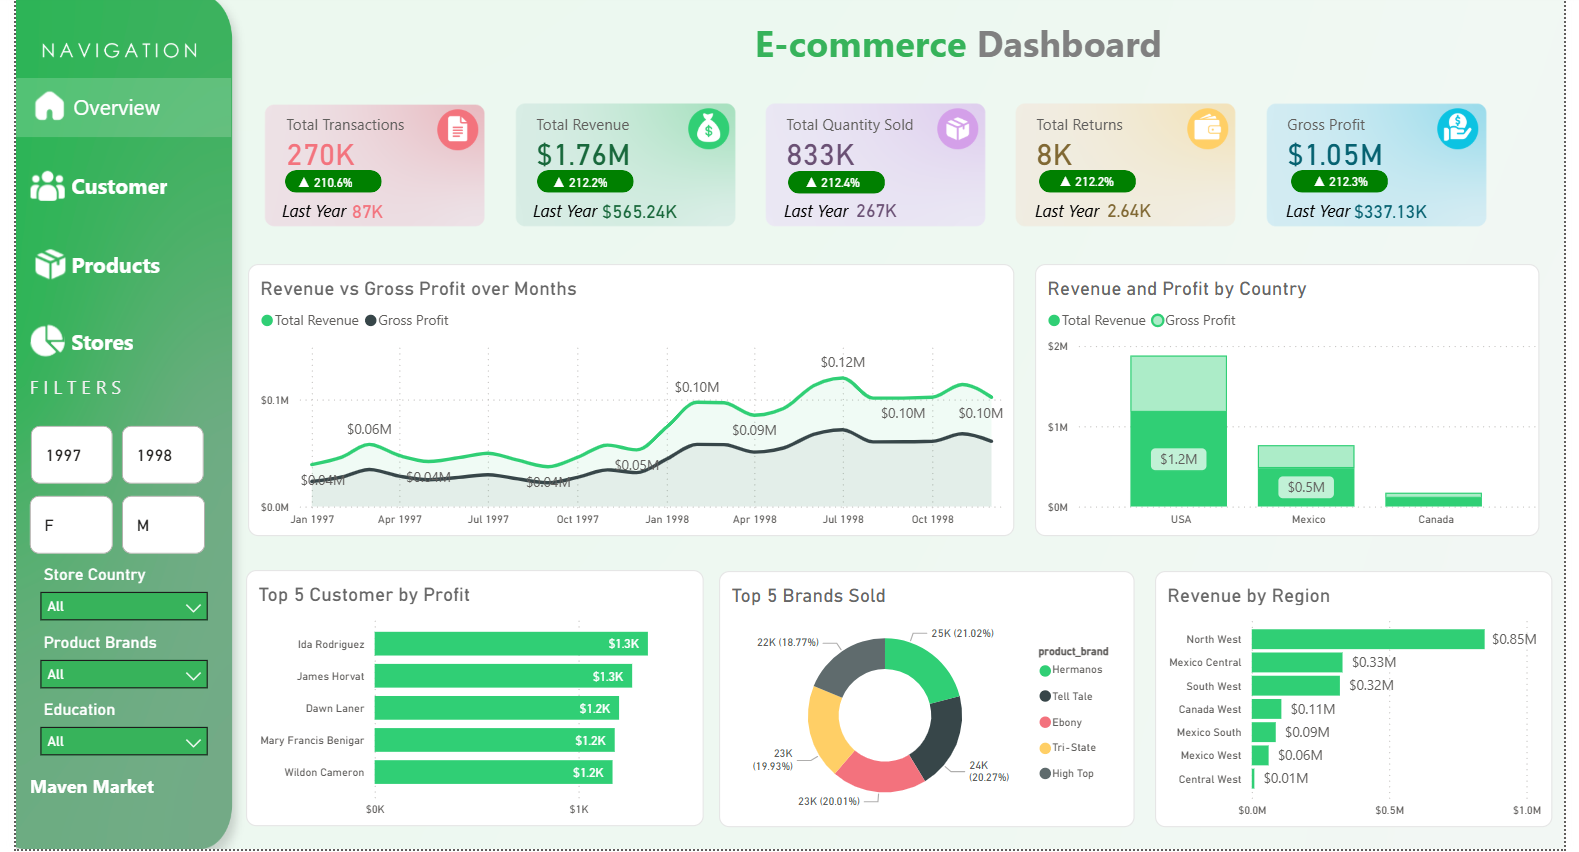

This screenshot's page, from the dashboard's own definition file:
{"tool":"powerbi","page":{"name":"Overview","canvas":[1360,750],"ordinal":0},"visuals":[{"type":"image","box":[0,0,202,750],"z":0},{"type":"image","title":"BG Image","box":[213.3,84.4,203.2,130.5],"z":0,"group":"g1"},{"type":"image","title":"BG Image","box":[433.4,84.6,203,130],"z":0,"group":"g2"},{"type":"image","title":"BG Image","box":[653.3,84.6,203,130],"z":0,"group":"g3"},{"type":"image","title":"BG Image","box":[873.2,84.6,203,130],"z":0,"group":"g9"},{"type":"image","title":"BG Image","box":[1093.1,84.6,203,130],"z":0,"group":"g15"},{"type":"shape","title":"YOY bg","box":[898.5,154.5,85.4,20],"z":0,"group":"g6"},{"type":"shape","title":"YOY bg","box":[1119.5,154.5,85.4,20],"z":0,"group":"g7"},{"type":"shape","title":"YOY bg","box":[236.5,154.6,85,20],"z":0,"group":"g5"},{"type":"shape","title":"YOY bg","box":[457.1,154.6,85,20],"z":0,"group":"g10"},{"type":"shape","title":"YOY bg","box":[677.6,154.6,85.4,20],"z":0,"group":"g4"},{"type":"shape","box":[233.5,175.6,65,25],"z":0,"group":"g11"},{"type":"shape","box":[454,175.6,65,25],"z":0,"group":"g8"},{"type":"shape","box":[674.4,175.6,65,25],"z":0,"group":"g12"},{"type":"shape","box":[894.9,175.6,65,25],"z":0,"group":"g13"},{"type":"shape","box":[1115.3,175.6,65,25],"z":0,"group":"g14"},{"type":"group","id":"g1","title":"Transactions KPI","box":[213.3,84.4,203.2,130.5],"z":1000,"group":"g16"},{"type":"image","title":"Icon","box":[807.1,98.2,40,40],"z":1000,"group":"g3"},{"type":"image","title":"Icon","box":[1026.6,98.2,40,40],"z":1000,"group":"g9"},{"type":"image","title":"Icon","box":[1246.2,98.2,40,40],"z":1000,"group":"g15"},{"type":"cardVisual","title":"YOY %","fields":{"Data":["_Measures.Quantity Sold YoY %"]},"box":[682.3,153.9,75,18.6],"z":1000,"group":"g4"},{"type":"cardVisual","title":"YOY %","fields":{"Data":["_Measures.Transactions YOY %"]},"box":[236.3,154.2,75,18],"z":1000,"group":"g5"},{"type":"cardVisual","title":"YOY %","fields":{"Data":["_Measures.Revenue YoY %"]},"box":[459.3,154.2,75,18],"z":1000,"group":"g10"},{"type":"cardVisual","title":"YOY %","fields":{"Data":["_Measures.Revenue YoY %"]},"box":[905.2,154.2,75,17.9],"z":1000,"group":"g6"},{"type":"cardVisual","title":"YOY %","fields":{"Data":["_Measures.Profit YoY %"]},"box":[1128.3,154.2,75,17.9],"z":1000,"group":"g7"},{"type":"cardVisual","fields":{"Data":["_Measures.Quantity PY"]},"box":[737.2,176,70,23.6],"z":1000,"group":"g12"},{"type":"cardVisual","fields":{"Data":["_Measures.Returns PV"]},"box":[958.1,176,70,23.6],"z":1000,"group":"g13"},{"type":"cardVisual","fields":{"Data":["_Measures.Profit PY"]},"box":[1174.6,176.3,70,23.6],"z":1000,"group":"g14"},{"type":"cardVisual","fields":{"Data":["_Measures.Transactions LY"]},"box":[294.6,176.6,70,23],"z":1000,"group":"g11"},{"type":"cardVisual","fields":{"Data":["_Measures.Revenue PY"]},"box":[514.3,176.7,70,23.6],"z":1000,"group":"g8"},{"type":"lineChart","title":"Revenue vs Gross Profit over Months","fields":{"Category":["Calendar.Date.Variation.Date Hierarchy.Year","Calendar.Date.Variation.Date Hierarchy.Quarter","Calendar.Date.Variation.Date Hierarchy.Month"],"Y":["_Measures.Total Revenue","_Measures.Gross Profit"]},"box":[204,236,673,239],"z":1000},{"type":"actionButton","box":[10.8,70.6,164.5,54.2],"z":2000},{"type":"group","id":"g2","title":"Revenue KPI","box":[433.4,84.6,203,130],"z":2000,"group":"g16"},{"type":"image","title":"Icon","box":[368,98.2,40,40],"z":2000,"group":"g1"},{"type":"cardVisual","fields":{"Data":["_Measures.Total Quantity Sold"]},"box":[659.6,99.1,190,60],"z":2000,"group":"g3"},{"type":"cardVisual","fields":{"Data":["_Measures.Total Returns"]},"box":[879.3,99.1,190,60],"z":2000,"group":"g9"},{"type":"cardVisual","fields":{"Data":["_Measures.Gross Profit"]},"box":[1099.1,99.1,190,60],"z":2000,"group":"g15"},{"type":"image","title":"Icon","box":[587.5,98.2,40,40],"z":2500,"group":"g2"},{"type":"cardVisual","fields":{"Data":["_Measures.Total Transactions"]},"box":[220.2,99.1,190,60],"z":2500,"group":"g1"},{"type":"cardVisual","fields":{"Data":["_Measures.Total Revenue"]},"box":[439.9,99.1,190,60],"z":2750,"group":"g2"},{"type":"group","id":"g3","title":"Quantity Sold KPI","box":[653.3,84.6,203,130],"z":3000,"group":"g16"},{"type":"actionButton","box":[9.2,139.3,165.9,55.3],"z":3000},{"type":"group","id":"g4","title":"YOY %","box":[677.6,153.9,85.4,20.7],"z":3000,"group":"g3"},{"type":"group","id":"g5","title":"YOY %","box":[236.3,154.2,85.2,20.4],"z":3000,"group":"g1"},{"type":"group","id":"g6","title":"YOY %","box":[898.5,154.2,85.4,20.3],"z":3000,"group":"g9"},{"type":"group","id":"g7","title":"YOY %","box":[1119.5,154.2,85.4,20.3],"z":3000,"group":"g15"},{"type":"group","id":"g8","title":"LY","box":[454,175.6,130.3,25],"z":3000,"group":"g2"},{"type":"shape","box":[0,72.6,188.9,51.8],"z":4000},{"type":"group","id":"g9","title":"Returns KPI","box":[873.2,84.6,203,130],"z":4000,"group":"g16"},{"type":"group","id":"g10","title":"YOY %","box":[457.1,154.2,85,20.4],"z":4000,"group":"g2"},{"type":"group","id":"g11","title":"LY","box":[233.5,175.6,131.1,25],"z":4000,"group":"g1"},{"type":"group","id":"g12","title":"LY","box":[674.4,175.6,132.8,25],"z":4000,"group":"g3"},{"type":"group","id":"g13","title":"LY","box":[894.9,175.6,133.2,25],"z":4000,"group":"g9"},{"type":"group","id":"g14","title":"LY","box":[1115.3,175.6,129.3,25],"z":4000,"group":"g15"},{"type":"group","id":"g15","title":"Profit KPI","box":[1093.1,84.6,203,130],"z":5000,"group":"g16"},{"type":"actionButton","box":[9.2,209.1,164.8,54.1],"z":5000},{"type":"actionButton","box":[9.2,277.7,164.8,53],"z":6000},{"type":"textbox","box":[7.3,679.1,148.2,36.4],"z":8000},{"type":"textbox","box":[643.8,14.5,373.1,57.9],"z":10000},{"type":"image","box":[16.1,35.7,150.9,30],"z":11000},{"type":"lineStackedColumnComboChart","title":"Revenue and Profit by Country","fields":{"Category":["Stores.store_country"],"Y":["_Measures.Total Revenue","_Measures.Gross Profit"]},"box":[895,236,443,239],"z":12000},{"type":"donutChart","title":"Top 5 Brands Sold","fields":{"Category":["Products.product_brand"],"Y":["_Measures.Total Quantity Sold"]},"box":[617.3,505.5,364.5,224.5],"z":13000},{"type":"clusteredBarChart","title":"Revenue by Region","fields":{"Category":["Regions.sales_region"],"Y":["_Measures.Total Revenue"]},"box":[1000,505.5,349.1,224.5],"z":14000},{"type":"advancedSlicerVisual","fields":{"Values":["Calendar.Year"]},"box":[7.6,373.1,163.4,61.4],"z":15000},{"type":"textbox","box":[7.3,328.2,180,34.5],"z":16000},{"type":"slicer","fields":{"Values":["Stores.store_country"]},"box":[11.4,496.2,167.2,57.2],"z":17000},{"type":"slicer","fields":{"Values":["Products.product_brand"]},"box":[11.4,555.7,167.2,57.2],"z":18000},{"type":"slicer","fields":{"Values":["Customers.education"]},"box":[11.4,615.1,167.2,57.2],"z":19000},{"type":"barChart","title":"Top 5 Customer by Profit","fields":{"Category":["Customers.Full Name"],"Y":["_Measures.Gross Profit"]},"box":[202,505,402,225],"z":20000},{"type":"group","id":"g16","title":"Group 1","box":[213.3,84.4,1082.2,131.1],"z":21000},{"type":"advancedSlicerVisual","fields":{"Values":["Customers.gender"]},"box":[6.8,434.5,164.4,61.4],"z":21001}]}

Visuals, with their boxes in screenshot pixels (x1, y1, x2, y2), scaled from the page's 1360x750 canvas onto the 1579x852 screenshot:
image: BBox(0, 0, 235, 851)
"BG Image" image: BBox(248, 96, 484, 244)
"BG Image" image: BBox(503, 96, 739, 244)
"BG Image" image: BBox(759, 96, 994, 244)
"BG Image" image: BBox(1014, 96, 1249, 244)
"BG Image" image: BBox(1269, 96, 1505, 244)
"YOY bg" shape: BBox(1043, 176, 1142, 198)
"YOY bg" shape: BBox(1300, 176, 1399, 198)
"YOY bg" shape: BBox(275, 176, 373, 198)
"YOY bg" shape: BBox(531, 176, 629, 198)
"YOY bg" shape: BBox(787, 176, 886, 198)
shape: BBox(271, 199, 347, 228)
shape: BBox(527, 199, 603, 228)
shape: BBox(783, 199, 858, 228)
shape: BBox(1039, 199, 1114, 228)
shape: BBox(1295, 199, 1370, 228)
"Transactions KPI" group: BBox(248, 96, 484, 244)
"Icon" image: BBox(937, 112, 984, 157)
"Icon" image: BBox(1192, 112, 1238, 157)
"Icon" image: BBox(1447, 112, 1493, 157)
"YOY %" cardVisual: BBox(792, 175, 879, 196)
"YOY %" cardVisual: BBox(274, 175, 361, 196)
"YOY %" cardVisual: BBox(533, 175, 620, 196)
"YOY %" cardVisual: BBox(1051, 175, 1138, 196)
"YOY %" cardVisual: BBox(1310, 175, 1397, 196)
cardVisual - _Measures.Quantity PY: BBox(856, 200, 937, 227)
cardVisual - _Measures.Returns PV: BBox(1112, 200, 1194, 227)
cardVisual - _Measures.Profit PY: BBox(1364, 200, 1445, 227)
cardVisual - _Measures.Transactions LY: BBox(342, 201, 423, 227)
cardVisual - _Measures.Revenue PY: BBox(597, 201, 678, 228)
"Revenue vs Gross Profit over Months" lineChart: BBox(237, 268, 1018, 540)
actionButton: BBox(13, 80, 204, 142)
"Revenue KPI" group: BBox(503, 96, 739, 244)
"Icon" image: BBox(427, 112, 474, 157)
cardVisual - _Measures.Total Quantity Sold: BBox(766, 113, 986, 181)
cardVisual - _Measures.Total Returns: BBox(1021, 113, 1241, 181)
cardVisual - _Measures.Gross Profit: BBox(1276, 113, 1497, 181)
"Icon" image: BBox(682, 112, 729, 157)
cardVisual - _Measures.Total Transactions: BBox(256, 113, 476, 181)
cardVisual - _Measures.Total Revenue: BBox(511, 113, 731, 181)
"Quantity Sold KPI" group: BBox(759, 96, 994, 244)
actionButton: BBox(11, 158, 203, 221)
"YOY %" group: BBox(787, 175, 886, 198)
"YOY %" group: BBox(274, 175, 373, 198)
"YOY %" group: BBox(1043, 175, 1142, 198)
"YOY %" group: BBox(1300, 175, 1399, 198)
"LY" group: BBox(527, 199, 678, 228)
shape: BBox(0, 82, 219, 141)
"Returns KPI" group: BBox(1014, 96, 1249, 244)
"YOY %" group: BBox(531, 175, 629, 198)
"LY" group: BBox(271, 199, 423, 228)
"LY" group: BBox(783, 199, 937, 228)
"LY" group: BBox(1039, 199, 1194, 228)
"LY" group: BBox(1295, 199, 1445, 228)
"Profit KPI" group: BBox(1269, 96, 1505, 244)
actionButton: BBox(11, 238, 202, 299)
actionButton: BBox(11, 315, 202, 376)
textbox: BBox(8, 771, 181, 813)
textbox: BBox(747, 16, 1181, 82)
image: BBox(19, 41, 194, 75)
"Revenue and Profit by Country" lineStackedColumnComboChart: BBox(1039, 268, 1553, 540)
"Top 5 Brands Sold" donutChart: BBox(717, 574, 1140, 829)
"Revenue by Region" clusteredBarChart: BBox(1161, 574, 1566, 829)
advancedSlicerVisual - Calendar.Year: BBox(9, 424, 199, 494)
textbox: BBox(8, 373, 217, 412)
slicer - Stores.store_country: BBox(13, 564, 207, 629)
slicer - Products.product_brand: BBox(13, 631, 207, 696)
slicer - Customers.education: BBox(13, 699, 207, 764)
"Top 5 Customer by Profit" barChart: BBox(235, 574, 701, 829)
"Group 1" group: BBox(248, 96, 1504, 245)
advancedSlicerVisual - Customers.gender: BBox(8, 494, 199, 563)
